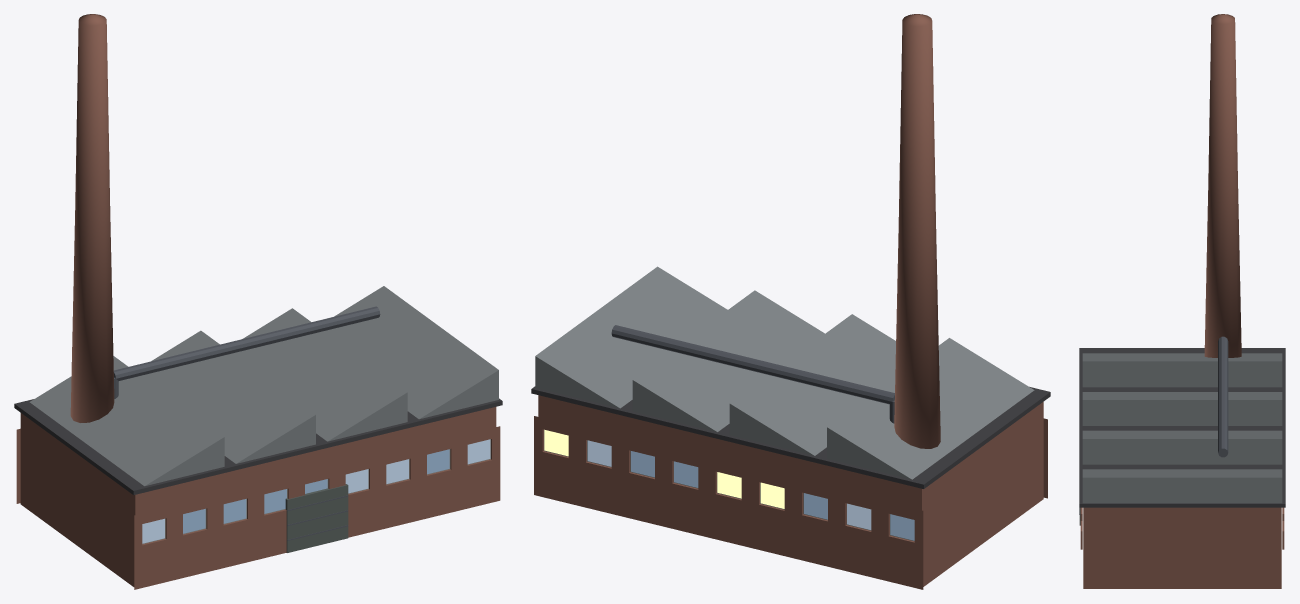
Rendered from factory.glb.
3 renders of one model, left to right at view 1: azimuth 30°, elevation 25°; view 2: azimuth 150°, elevation 25°; view 3: azimuth 270°, elevation 25°, orthographic. The views are drawn at different scales.
Visible parts, largest first — view 1: facade_front, mass, chimney, saw.003, saw, saw.002, saw.001, roof, gate, pipe; view 2: facade_back, mass, chimney, saw.003, saw.002, saw.001, saw, roof, pipe; view 3: mass, chimney, saw.003, saw.002, saw, saw.001, roof, pipe.
Boxes of the visible parts, box(x1,y1,x2,y2) form: facade_front: box(134, 426, 500, 589); mass: box(20, 407, 496, 586); chimney: box(70, 14, 114, 422); saw.003: box(324, 286, 498, 419); saw: box(29, 356, 224, 486); saw.002: box(232, 308, 407, 441); saw.001: box(141, 330, 315, 463); roof: box(14, 398, 502, 495); gate: box(285, 484, 348, 552); pipe: box(113, 306, 380, 380); facade_back: box(534, 416, 923, 589); mass: box(538, 395, 1043, 586); chimney: box(894, 14, 940, 448); saw.003: box(535, 266, 727, 408); saw.002: box(632, 290, 824, 431); saw.001: box(729, 314, 895, 455); saw: box(827, 338, 1034, 479); roof: box(531, 386, 1050, 488); pipe: box(611, 325, 894, 404); mass: box(1083, 507, 1281, 588); chimney: box(1204, 14, 1241, 357); saw.003: box(1082, 469, 1282, 503); saw.002: box(1082, 430, 1282, 464); saw: box(1082, 353, 1282, 387); saw.001: box(1082, 392, 1282, 425); roof: box(1079, 348, 1285, 507); pipe: box(1218, 336, 1228, 457).
Size of what is drawn, in the model's own units: 36.3 by 47.5 by 20.3.
